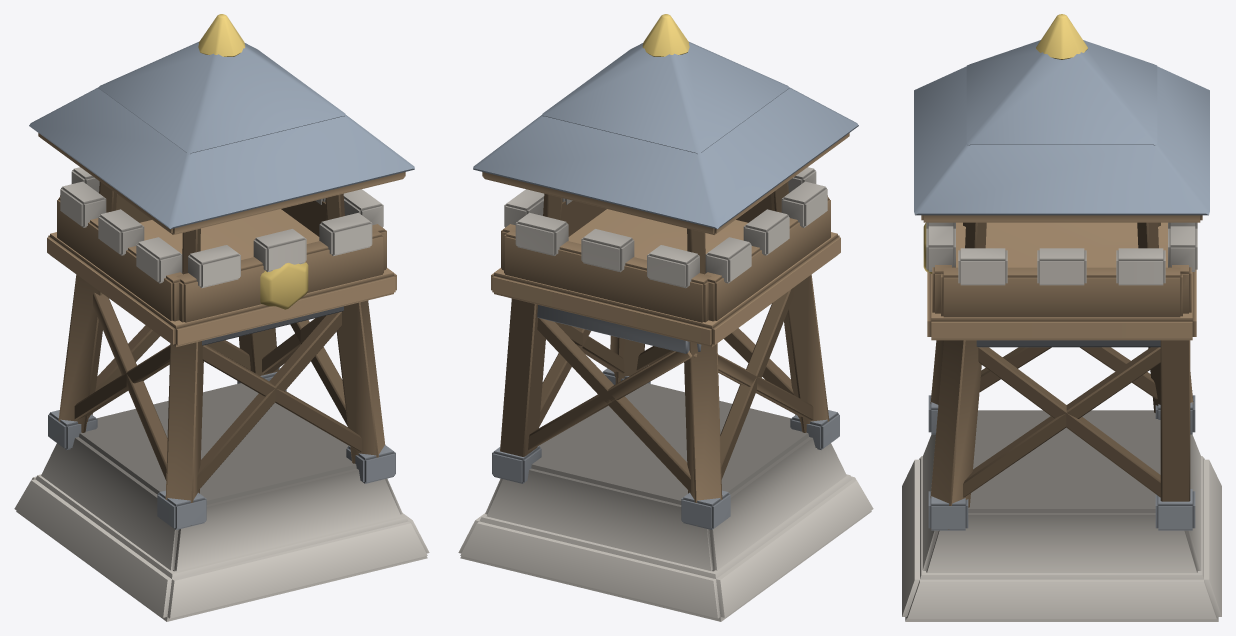
Rendered from watch_tower_lod0.glb.
3 renders of one model, left to right at view 1: azimuth 30°, elevation 25°; view 2: azimuth 150°, elevation 25°; view 3: azimuth 270°, elevation 25°, orthographic. The views are drawn at different scales.
Parts seen in each view (by area): view 1: watch_tower; view 2: watch_tower; view 3: watch_tower.
Boxes of the visible parts, x1,y1,x2,y2 form: watch_tower: [14, 14, 429, 621]; watch_tower: [458, 14, 873, 621]; watch_tower: [902, 14, 1221, 621].
Size of the model in its own units: 2.59 by 4.83 by 2.59.
